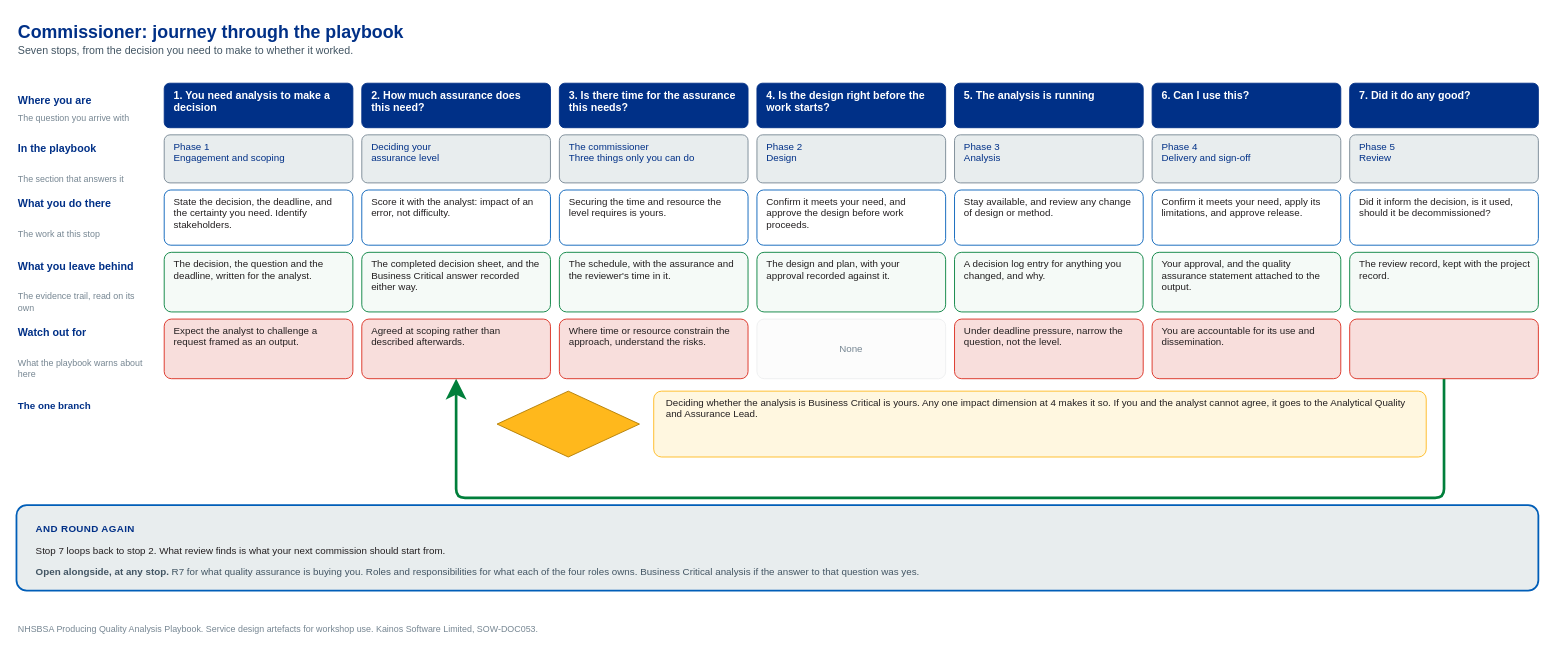
This 1554x650 diagram has some shape labels left out. Each missing label, with the box of its shape:
Above Level 1 the review is yours, with the analyst.: (1349, 318, 1538, 379)
Any one impact dimension at 4?: (496, 390, 639, 457)
